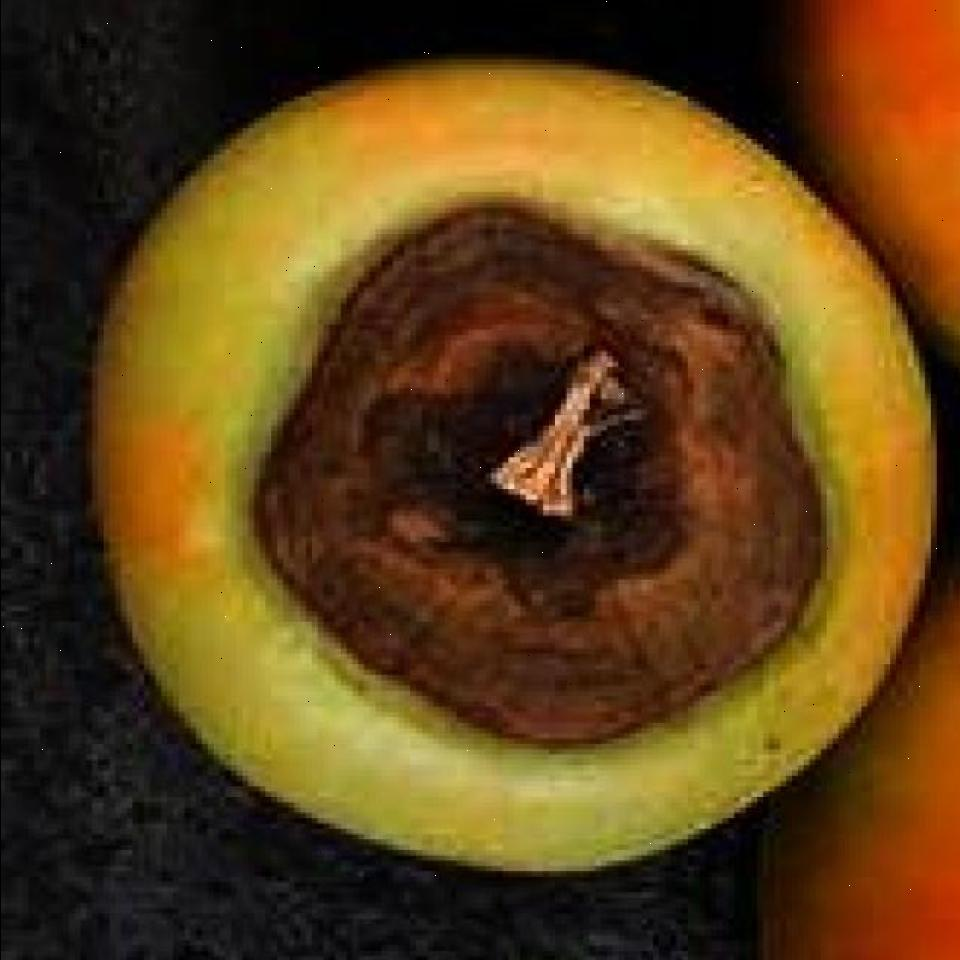Blossom_end_rot: (250, 194, 840, 757)
